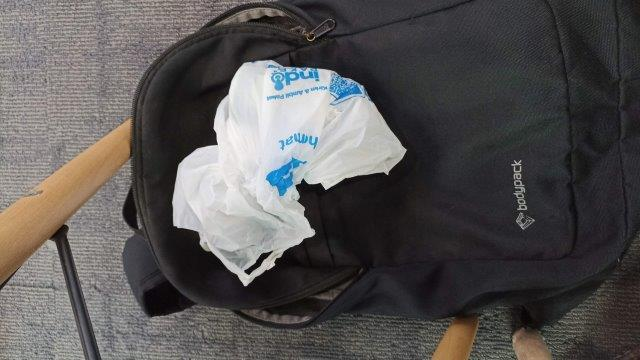plastik: (173, 59, 406, 285)
